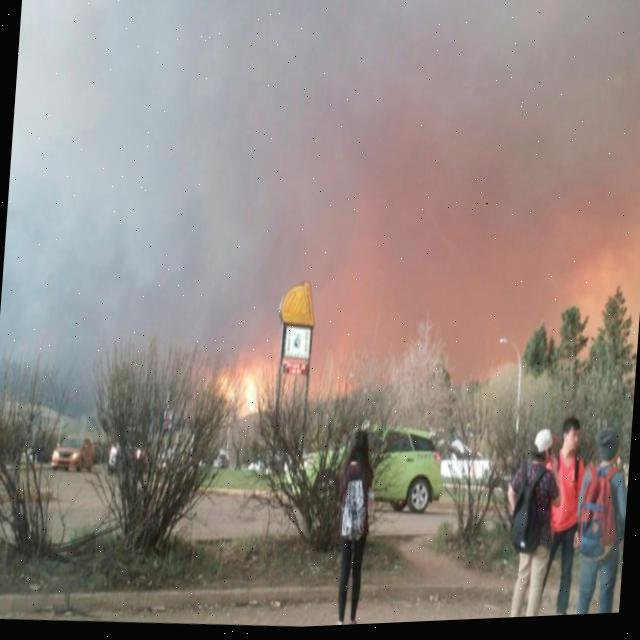fire: (223, 366, 276, 472), (281, 378, 303, 407)
smoke: (0, 0, 640, 391)
